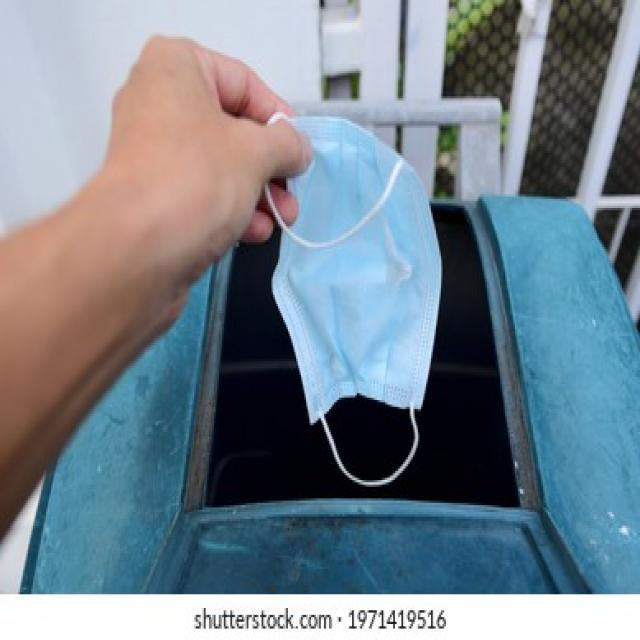face mask: (255, 108, 444, 490)
